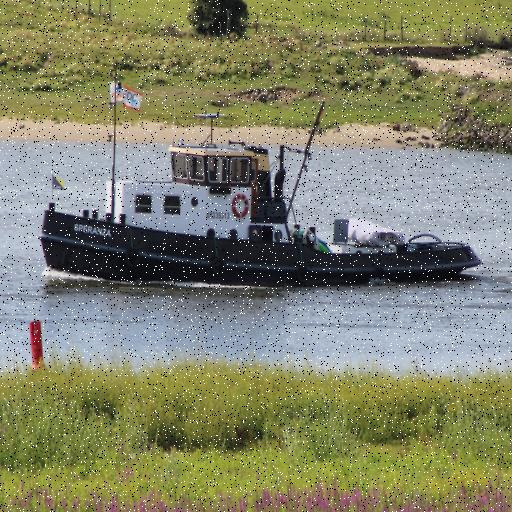tugboat: (37, 111, 489, 298)
